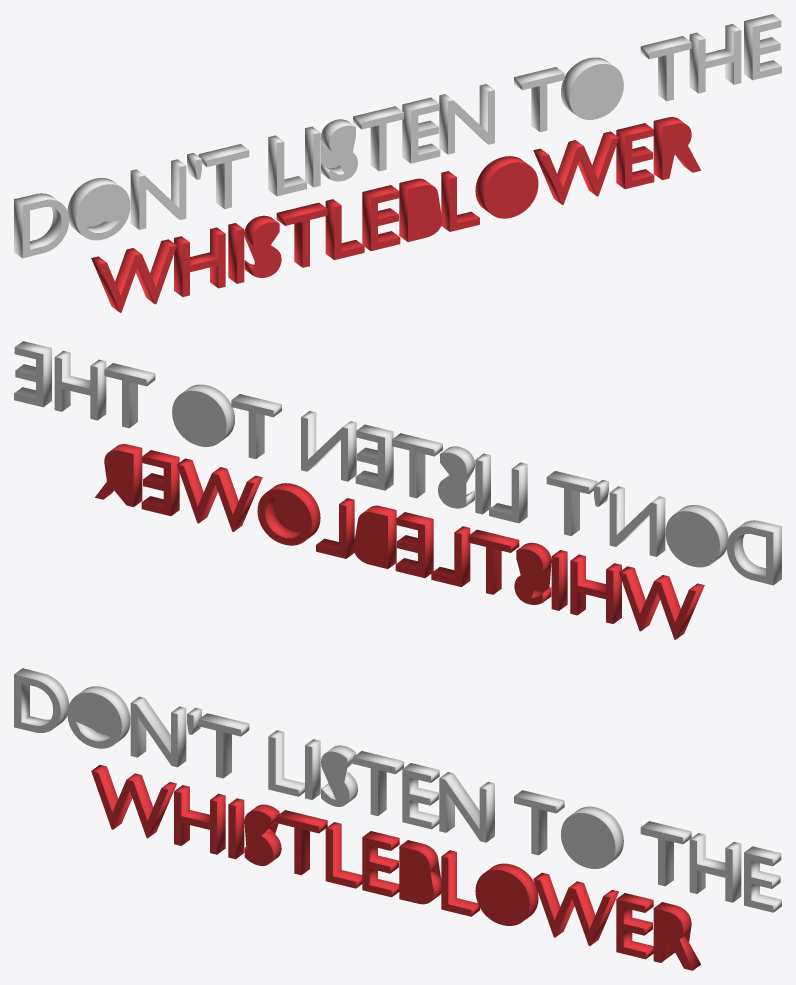
Rendered from dontlistentothewhistleblower.fbx.
The picture shows the model from 3 angles, top to bottom: view 1: azimuth 30°, elevation 25°; view 2: azimuth 150°, elevation 25°; view 3: azimuth 330°, elevation 25°; orthographic projection.
Parts seen in each view (by area): view 1: dont listen to the, wjistleblower; view 2: dont listen to the, wjistleblower; view 3: dont listen to the, wjistleblower.
Boxes of the visible parts, box(x1,y1,x2,y2) form: dont listen to the: box(14, 14, 781, 258); wjistleblower: box(91, 117, 700, 312); dont listen to the: box(14, 341, 781, 585); wjistleblower: box(95, 444, 704, 639); dont listen to the: box(14, 668, 781, 912); wjistleblower: box(91, 765, 700, 970).
Bounding box in the file's own units: 1022 × 172 × 20.
